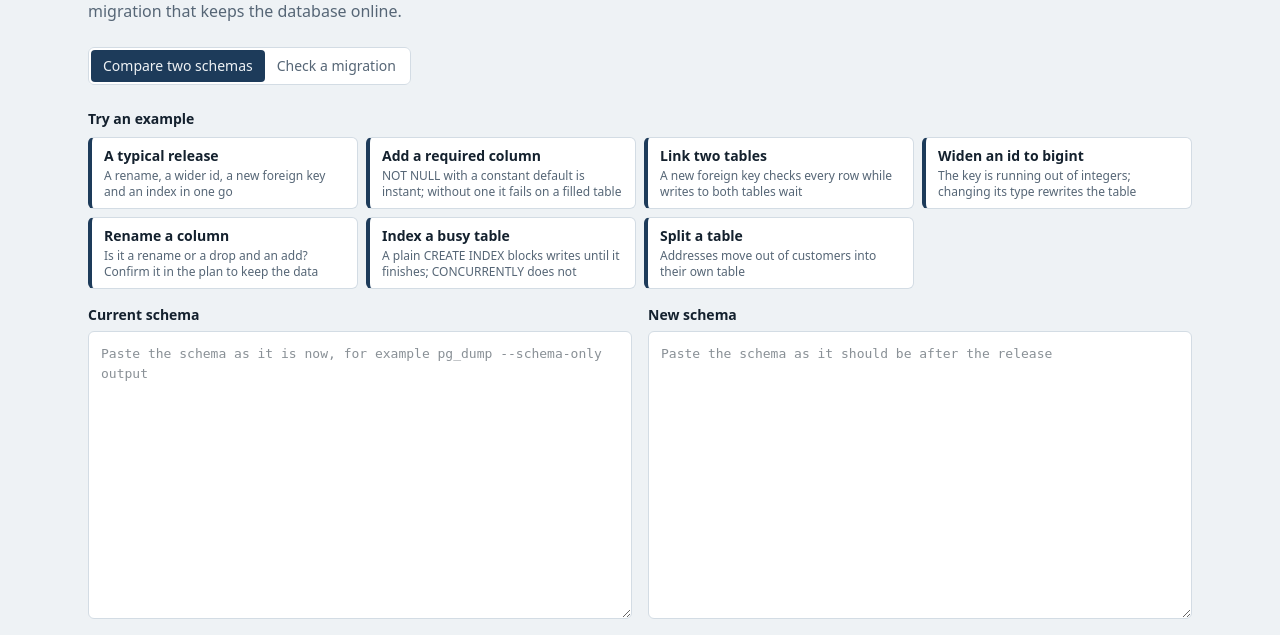
Test case: Compare two schemas › copies the plan as a script
Click the button "A typical release" at [223, 173], box [88,137,358,209]
(page scrolled)
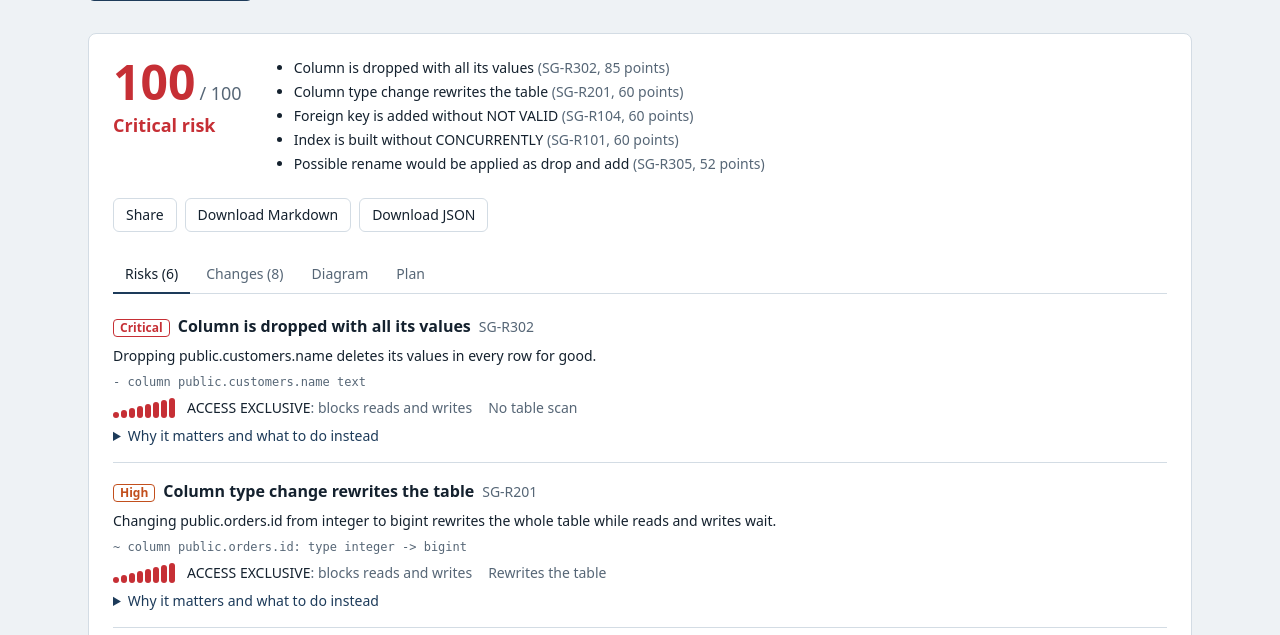
Expected: the element named "Overall risk" is shown, [113,49,765,173]
Click the tab "Plan" at [411, 275], box [384,256,437,294]
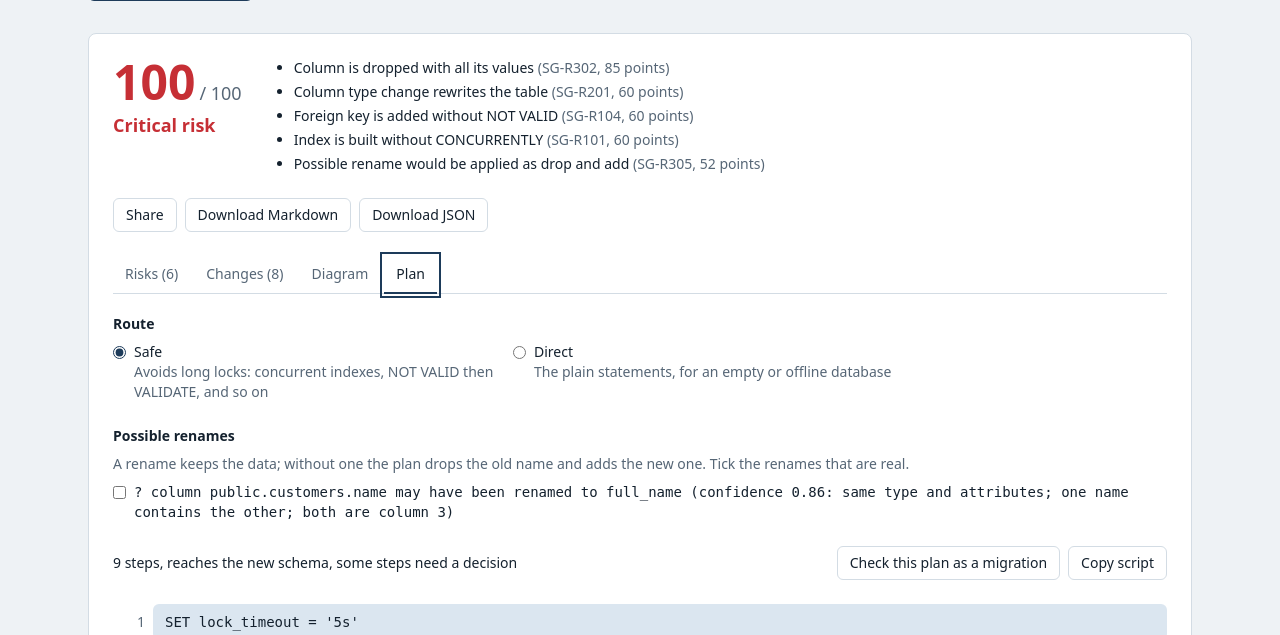
Click the button "Copy script" at [1118, 563], box [1068,546,1167,580]
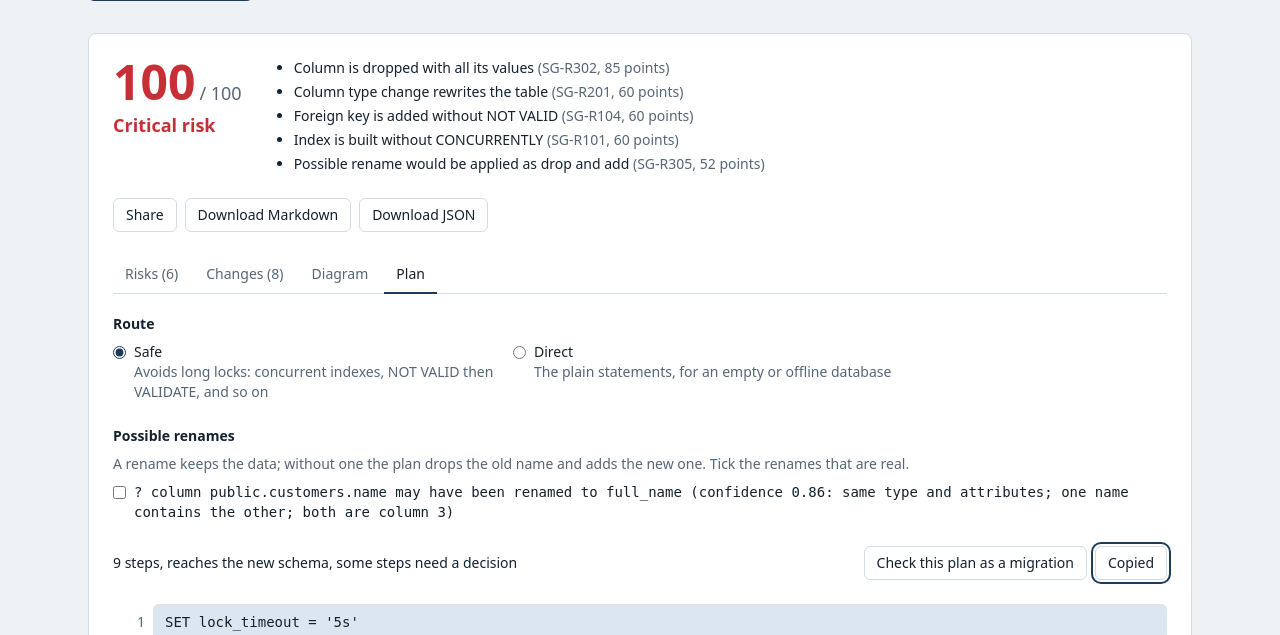
Expected: the button "Copied" is shown, [1095,546,1167,580]
